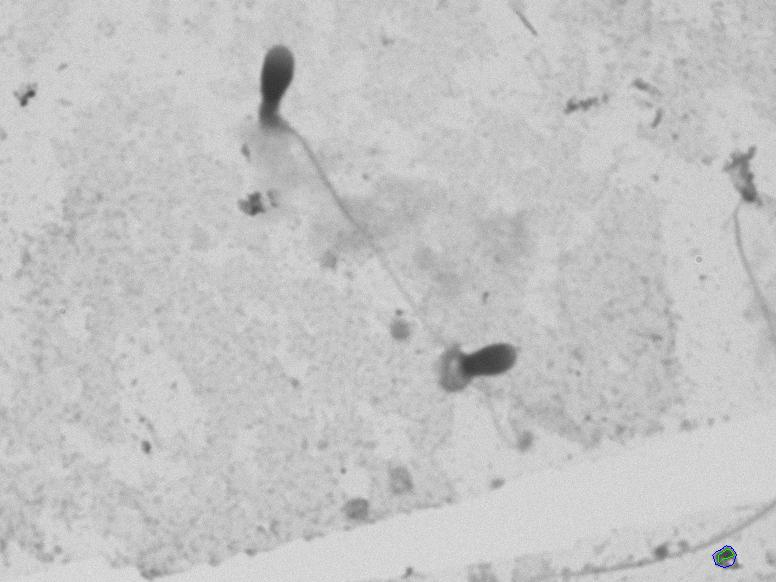Abnormal: (191, 17, 429, 346), (412, 289, 536, 447)
